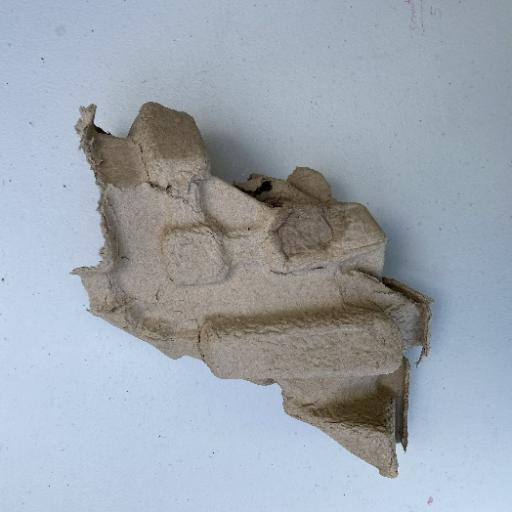Cardboard: (68, 98, 436, 478)
